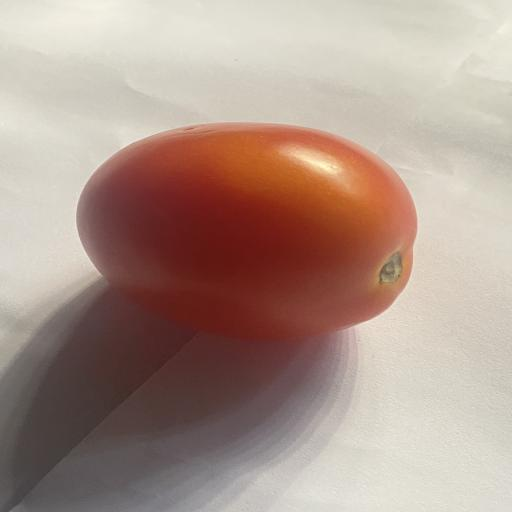ripe: (77, 123, 417, 339)
